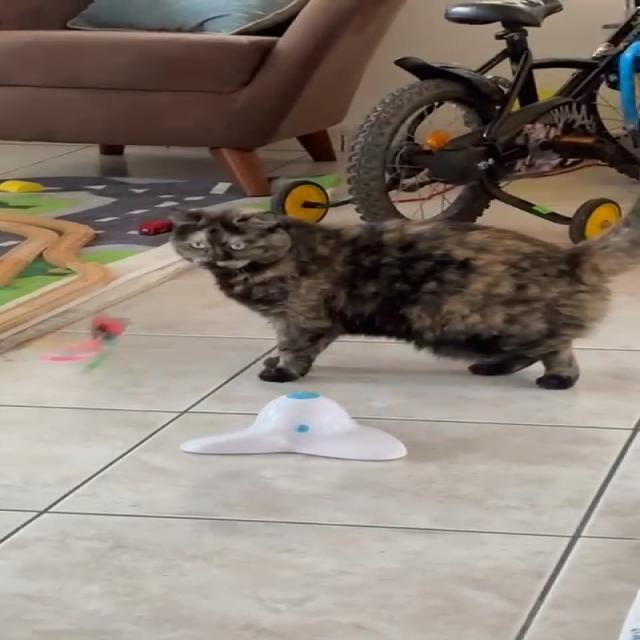authorized: (168, 200, 637, 390)
